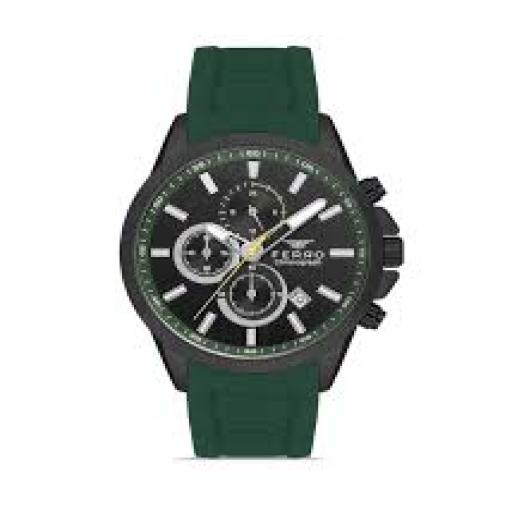KolSaati: (100, 24, 441, 479)
